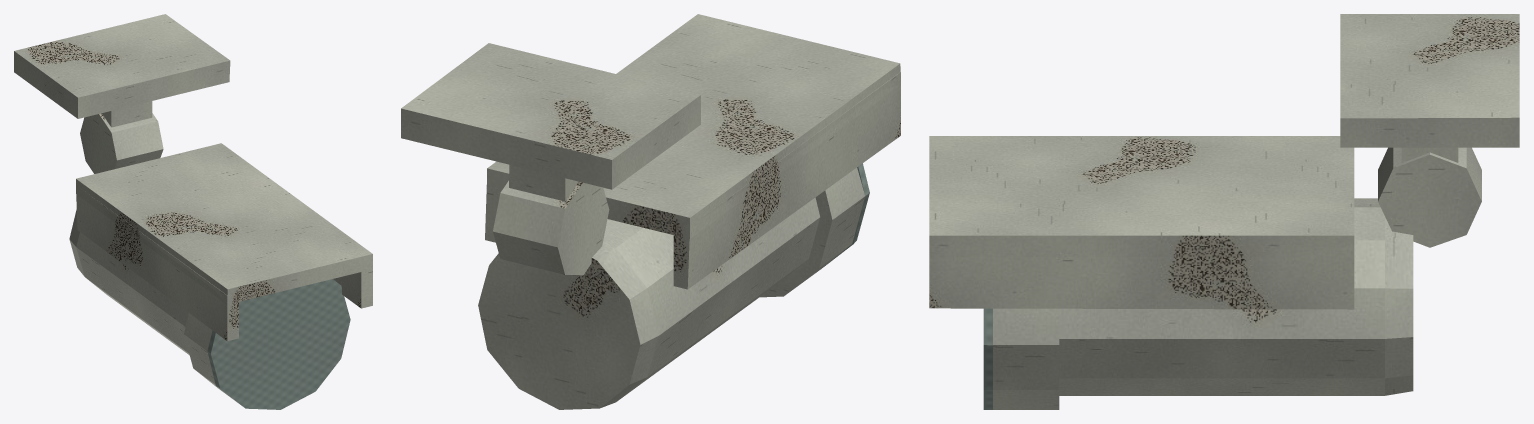
File: camera1_v3.glb
The picture shows the model from 3 angles, left to right: view 1: azimuth 30°, elevation 25°; view 2: azimuth 150°, elevation 25°; view 3: azimuth 270°, elevation 25°; orthographic projection. The views are drawn at different scales.
Visible parts, largest first — view 1: Variant_camera1_3; view 2: Variant_camera1_3; view 3: Variant_camera1_3.
Part boxes in pixels (<box>): Variant_camera1_3: <box>14,14,372,409</box>; Variant_camera1_3: <box>401,14,900,409</box>; Variant_camera1_3: <box>929,14,1519,409</box>.
Size of the model in its own units: 0.1046 by 0.156 by 0.25.
2 materials, 2 textured.
